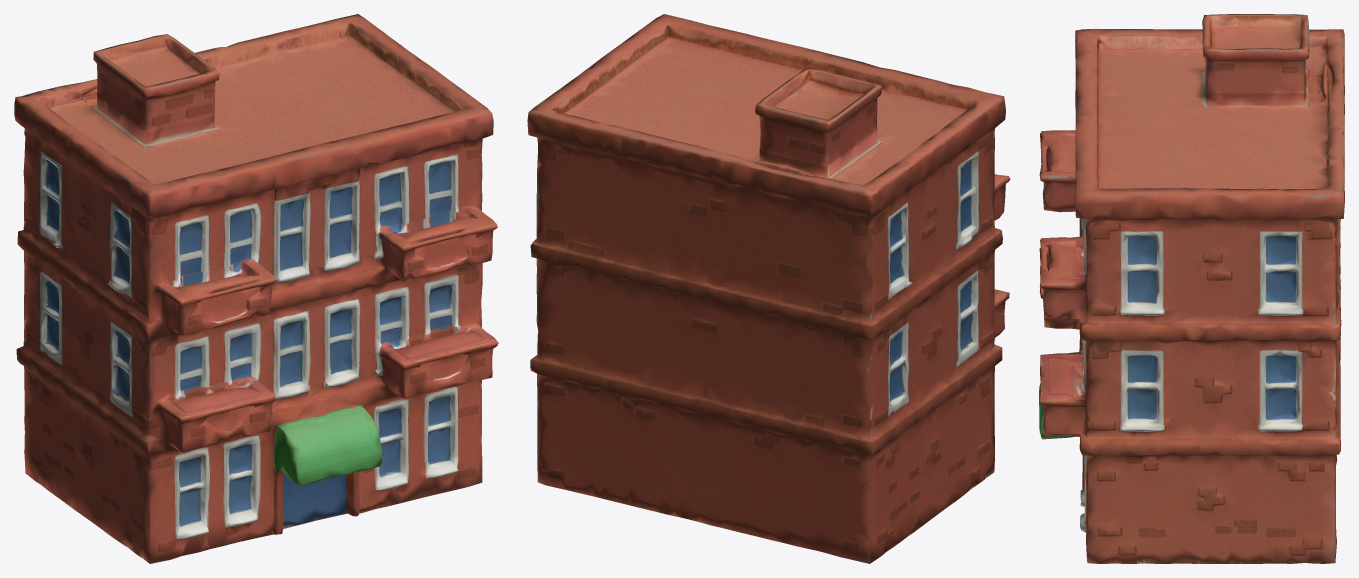
File: P_TownApartment_h1200.fbx
3 views of the same model, side by side, from view 1: azimuth 30°, elevation 25°; view 2: azimuth 150°, elevation 25°; view 3: azimuth 270°, elevation 25° (orthographic).
Visible parts, largest first — view 1: texture_mapping; view 2: texture_mapping; view 3: texture_mapping.
Boxes of the visible parts, left/top/right/bottom form: texture_mapping: left=14, top=14, right=498, bottom=563; texture_mapping: left=527, top=14, right=1010, bottom=563; texture_mapping: left=1039, top=14, right=1344, bottom=563.
Size of the model in its own units: 0.8648 by 0.669 by 1.
1 material, 1 textured.
